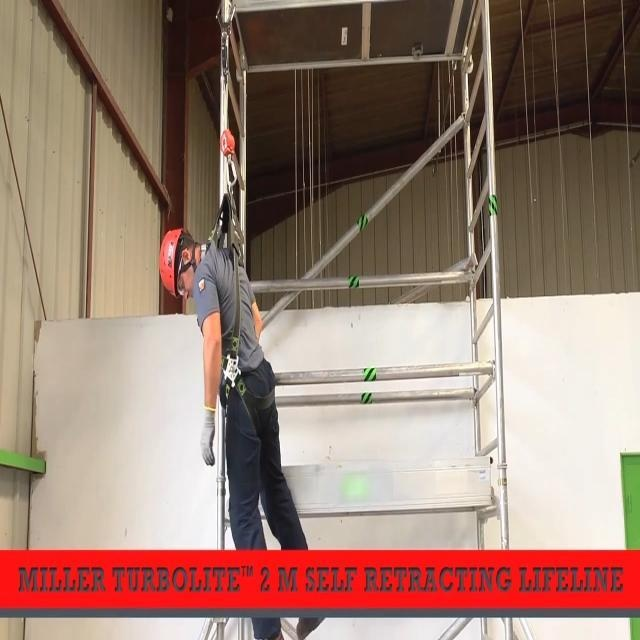Arnes_seguridad: (188, 119, 283, 464)
